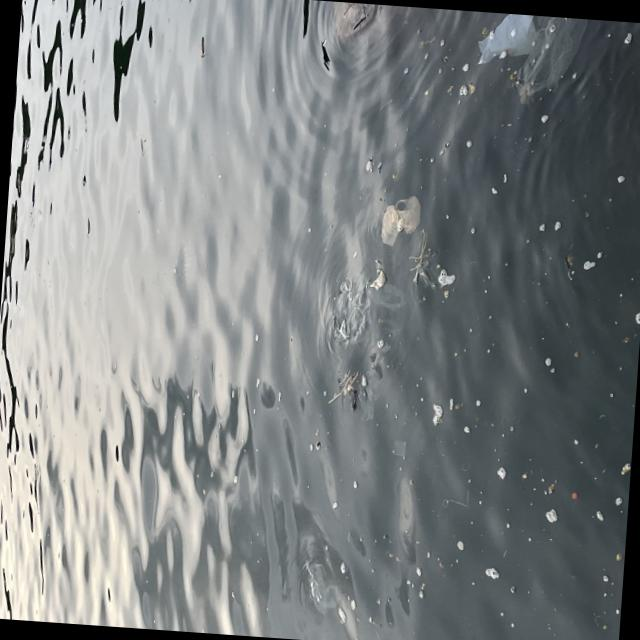plastic bag: (380, 191, 429, 247)
